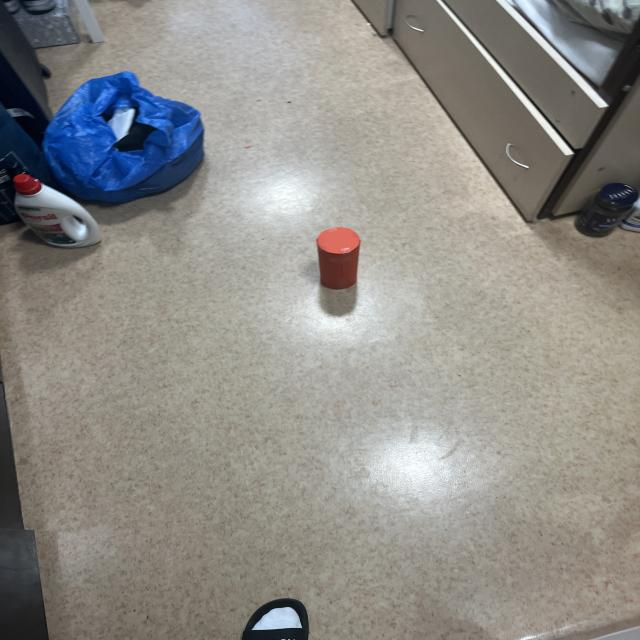przeszkoda: (317, 227, 360, 289)
